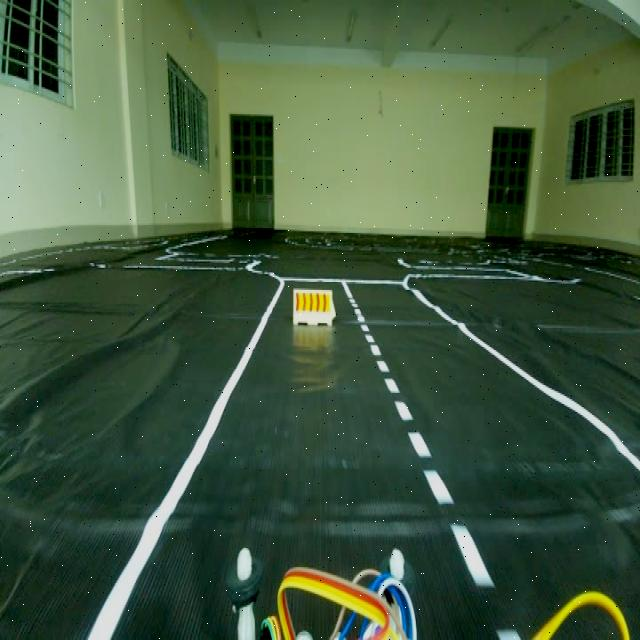roadblock: (289, 284, 342, 344)
